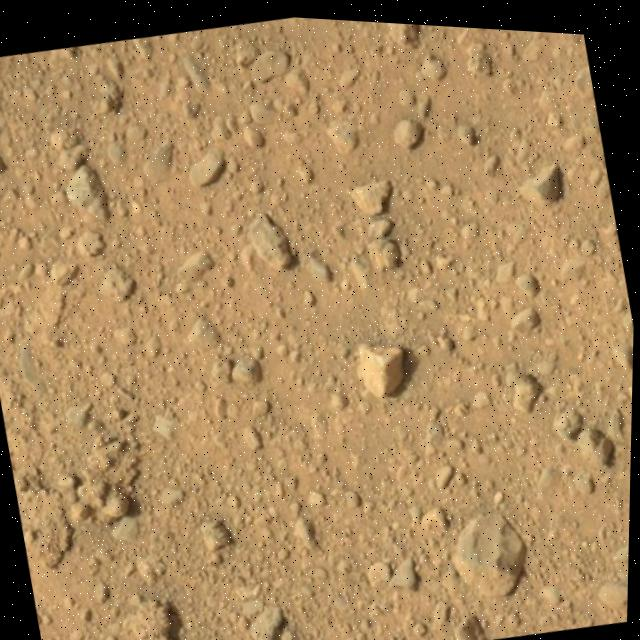mars-rocks: (456, 506, 530, 590), (249, 208, 294, 266), (361, 338, 405, 391), (522, 153, 565, 193), (581, 419, 617, 460)
